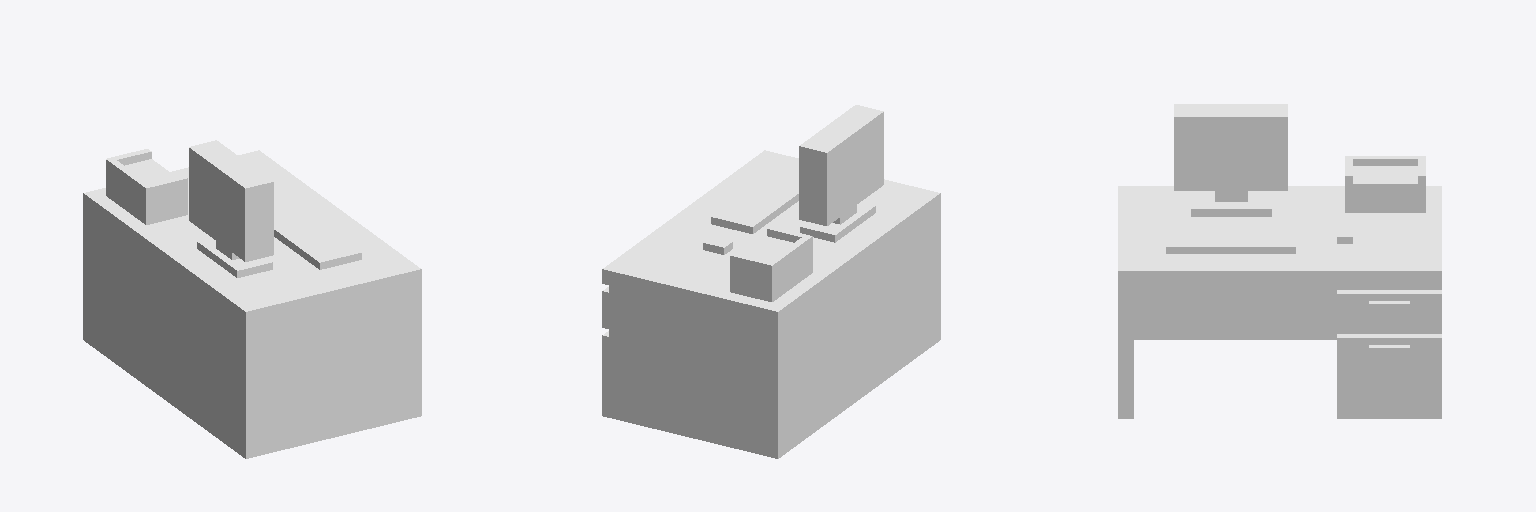
File: table-with-computer.obj
The picture shows the model from 3 angles: view 1: azimuth 30°, elevation 25°; view 2: azimuth 150°, elevation 25°; view 3: azimuth 270°, elevation 25°; orthographic projection.
Parts seen in each view (by area): view 1: object 1; view 2: object 1; view 3: object 1.
Boxes of the visible parts, x1=… form: object 1: x1=83, y1=140, x2=421, y2=458; object 1: x1=602, y1=105, x2=940, y2=458; object 1: x1=1118, y1=104, x2=1441, y2=418.
Size of the model in its own units: 2.6 by 3.3 by 4.